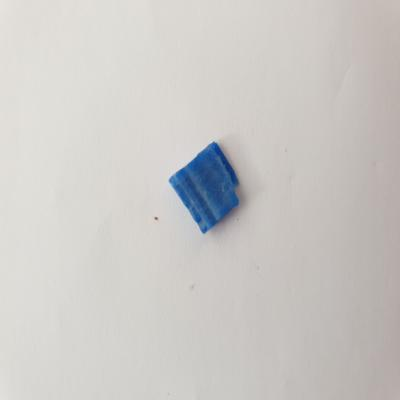plastic: (164, 138, 246, 237)
